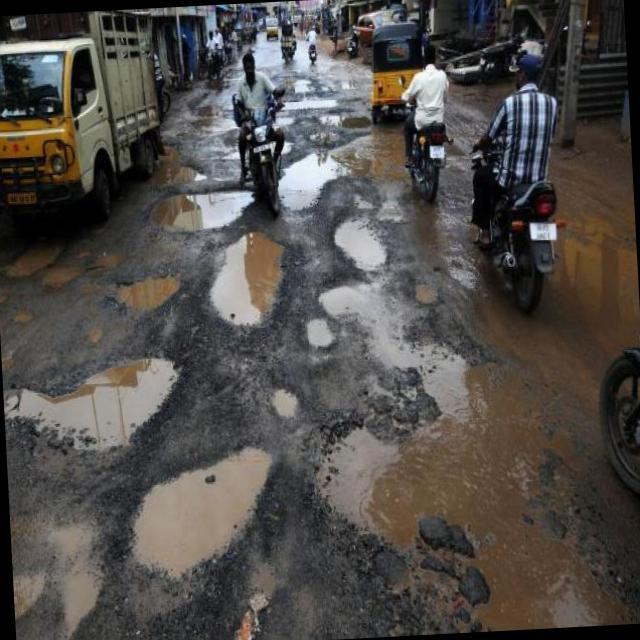Pothole: (318, 281, 586, 627), (134, 448, 273, 577), (3, 358, 178, 450), (210, 232, 284, 325), (50, 525, 101, 635), (152, 191, 252, 231), (282, 157, 342, 211), (8, 245, 80, 288), (334, 218, 386, 275), (116, 278, 178, 312), (14, 578, 43, 618), (273, 390, 298, 418), (307, 320, 332, 347), (92, 253, 120, 270), (416, 284, 436, 303)
